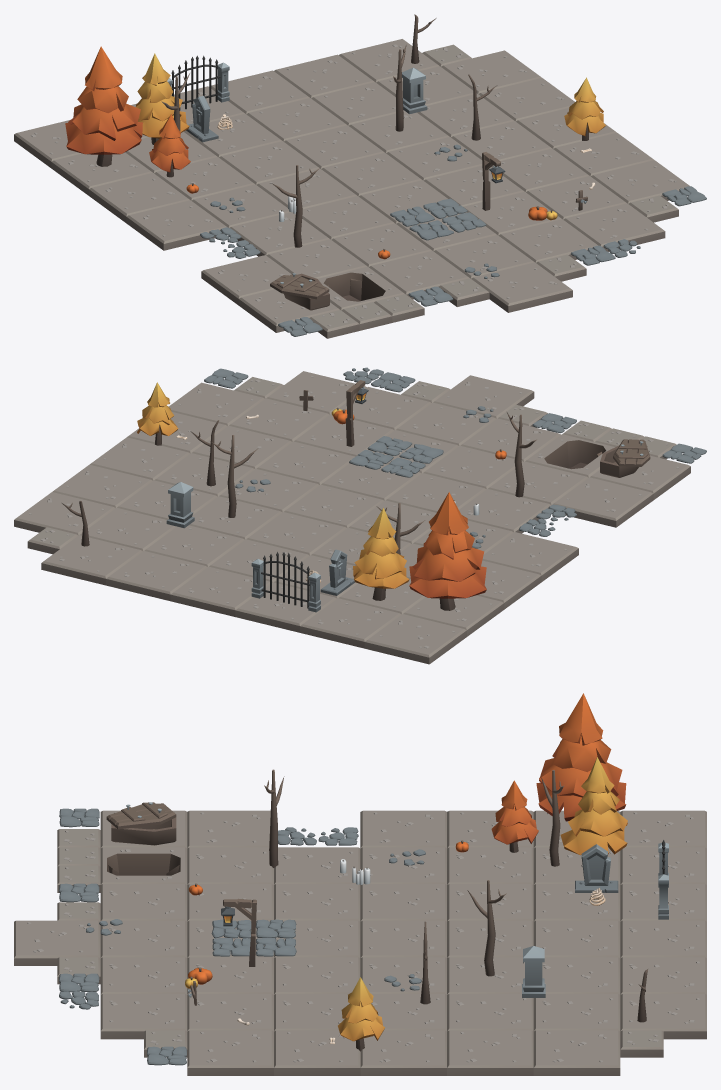
Rendered from Ghost.glb.
3 renders of one model, top to bottom at view 1: azimuth 30°, elevation 25°; view 2: azimuth 150°, elevation 25°; view 3: azimuth 270°, elevation 25°, orthographic. The views are drawn at different scales.
Visible parts, largest first — view 1: floor_dirt, tree_pine_orange_large, tree_pine_yellow_medium, path_B.003, tree_pine_orange_small, tree_pine_yellow_small.001, coffin_lid, shrine, grave_B, tree_dead_large, tree_dead_large.002, fence_gate_left (+6 smaller); view 2: floor_dirt, tree_pine_orange_large, tree_pine_yellow_medium, path_B.003, tree_pine_yellow_small.001, shrine, fence_gate, coffin_lid, grave_B, tree_dead_large.002, tree_dead_large, coffin (+7 smaller); view 3: floor_dirt, tree_pine_orange_large, tree_pine_yellow_medium, path_B.003, tree_pine_orange_small, tree_pine_yellow_small.001, grave_B, coffin_lid, coffin, shrine, tree_dead_large.002, tree_dead_large.001 (+7 smaller).
Part boxes in pixels (x1,y1,x2,y2): floor_dirt: (14,39,689,338); tree_pine_orange_large: (65,46,142,166); tree_pine_yellow_medium: (136,53,189,144); path_B.003: (390,198,486,240); tree_pine_orange_small: (149,114,190,177); tree_pine_yellow_small.001: (564,77,605,140); coffin_lid: (270,273,329,299); shrine: (402,67,427,114); grave_B: (186,95,218,142); tree_dead_large: (271,165,319,247); tree_dead_large.002: (393,45,406,131); fence_gate_left: (195,55,220,103); floor_dirt: (14,371,690,664); tree_pine_orange_large: (409,492,486,610); tree_pine_yellow_medium: (353,508,409,600); path_B.003: (349,436,443,477); tree_pine_yellow_small.001: (137,382,178,445); shrine: (166,482,194,528); fence_gate: (251,559,320,612); coffin_lid: (613,439,650,466); grave_B: (320,549,355,595); tree_dead_large.002: (211,435,258,517); tree_dead_large: (507,412,536,497); coffin: (600,445,647,477); floor_dirt: (14,810,706,1075); tree_pine_orange_large: (536,693,626,821); tree_pine_yellow_medium: (560,757,627,854); path_B.003: (211,919,296,956); tree_pine_orange_small: (491,780,538,852); tree_pine_yellow_small.001: (338,977,384,1051); grave_B: (575,844,618,892); coffin_lid: (106,802,176,829); coffin: (111,817,176,845); shrine: (522,946,545,997); tree_dead_large.002: (467,880,506,976); tree_dead_large.001: (541,770,564,866).
Size of the model in its own units: 28.16 by 8.42 by 32.
34 materials, 34 textured.
